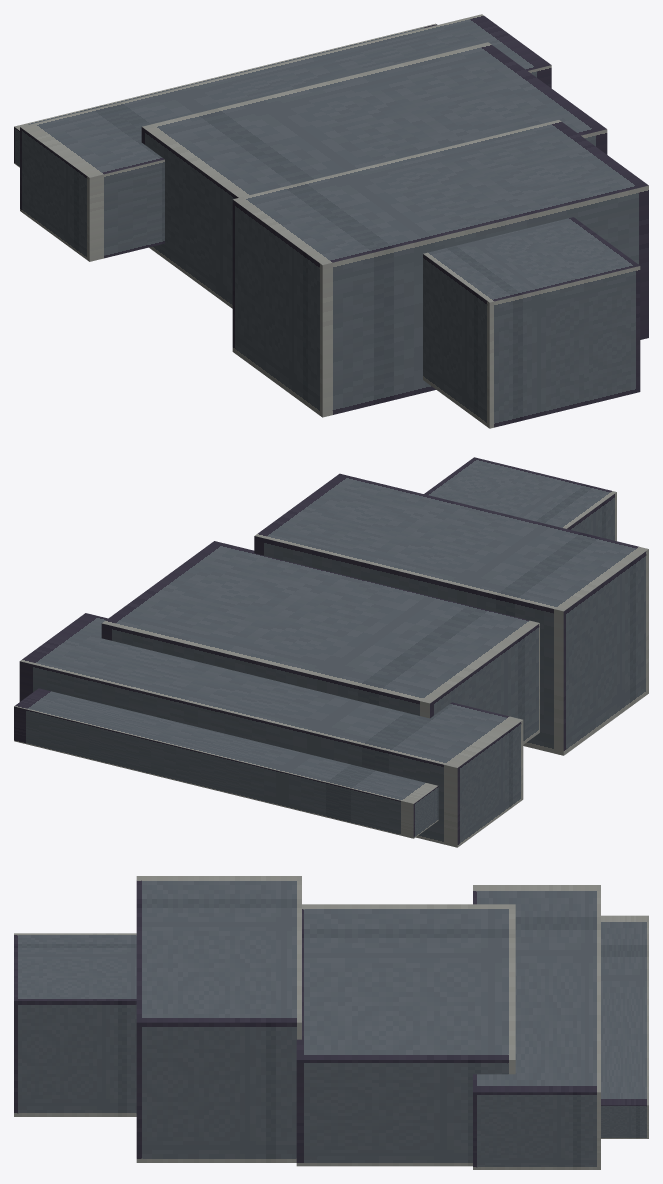
Rendered from bench_axe_3.obj.
The picture shows the model from 3 angles, top to bottom: view 1: azimuth 30°, elevation 25°; view 2: azimuth 150°, elevation 25°; view 3: azimuth 270°, elevation 25°; orthographic projection. The views are drawn at different scales.
Visible parts, largest first — view 1: geometry; view 2: geometry; view 3: geometry.
Part boxes in pixels (left/top/right/bottom): geometry: left=14, top=14, right=648, bottom=428; geometry: left=14, top=457, right=648, bottom=847; geometry: left=14, top=876, right=648, bottom=1169.
Size of the model in its own units: 0.5798 by 0.1828 by 0.75.
